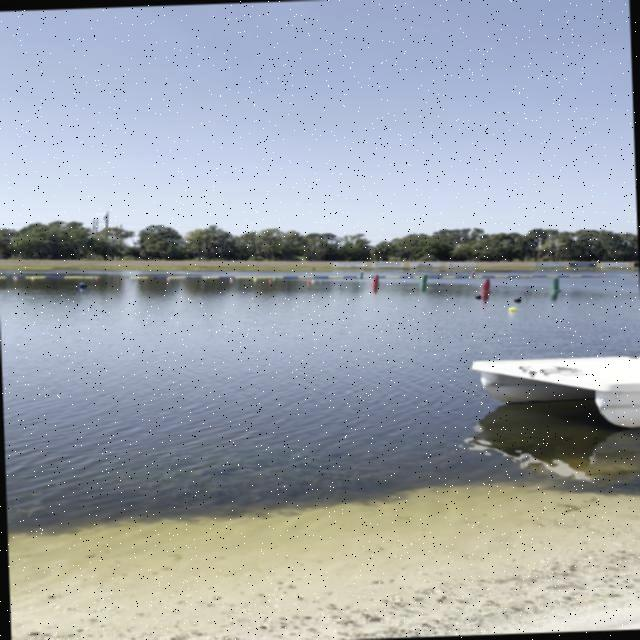buoy: (512, 296, 522, 303), (507, 306, 518, 312), (473, 294, 484, 300)
